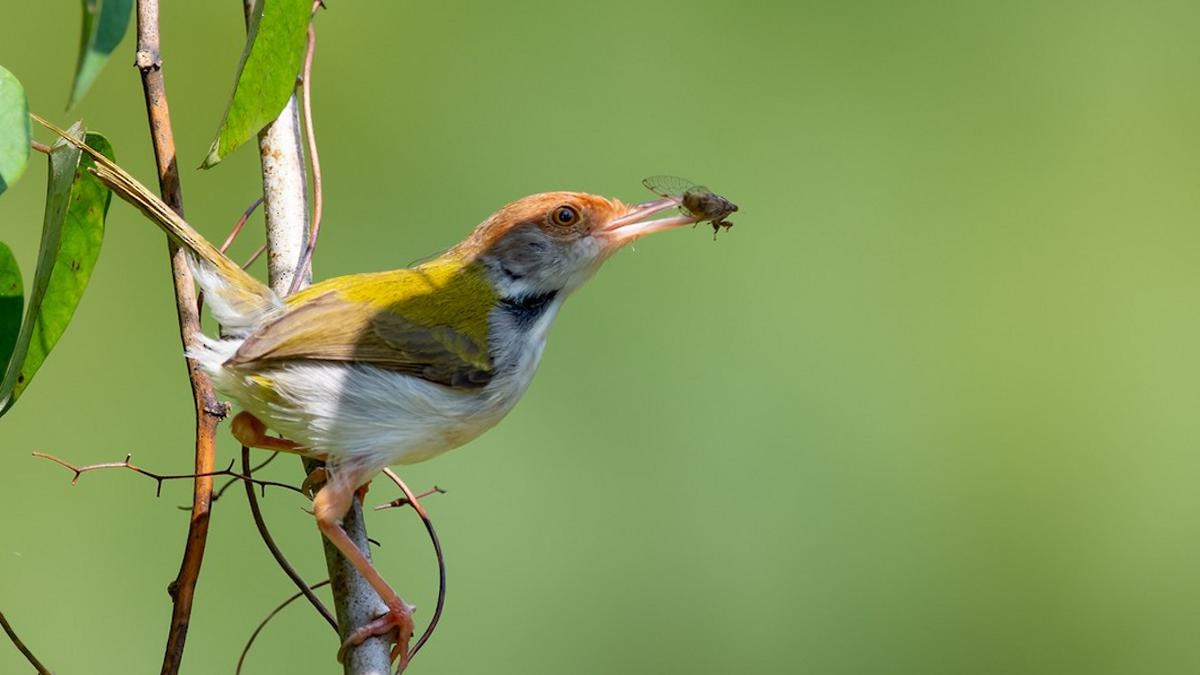tailorbird: (113, 159, 757, 567)
